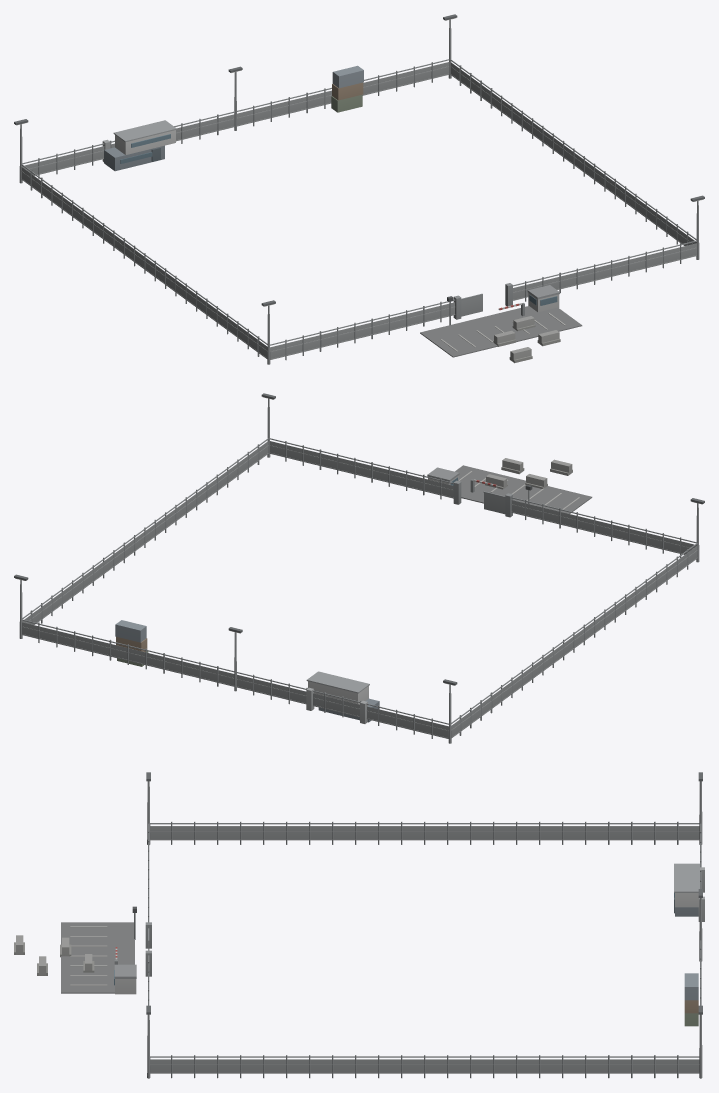
Rendered from m_factory_b0cef79a.glb.
3 views of the same model, one above another, from view 1: azimuth 30°, elevation 25°; view 2: azimuth 150°, elevation 25°; view 3: azimuth 270°, elevation 25° (orthographic). The views are drawn at different scales.
Parts seen in each view (by area): view 1: mesh; view 2: mesh; view 3: mesh.
Boxes of the visible parts, box(x1,y1,x2,y2) form: mesh: box(14, 14, 704, 364); mesh: box(14, 393, 704, 743); mesh: box(14, 772, 704, 1078).
Size of the model in its own units: 123 by 16.46 by 150.
